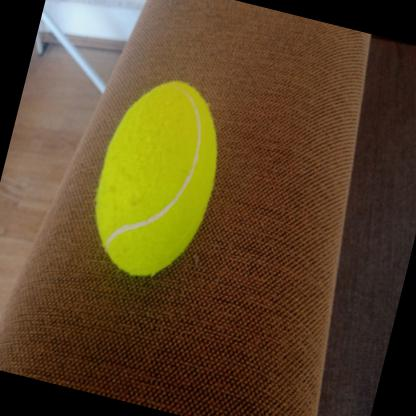Tennis: (74, 64, 240, 294)
